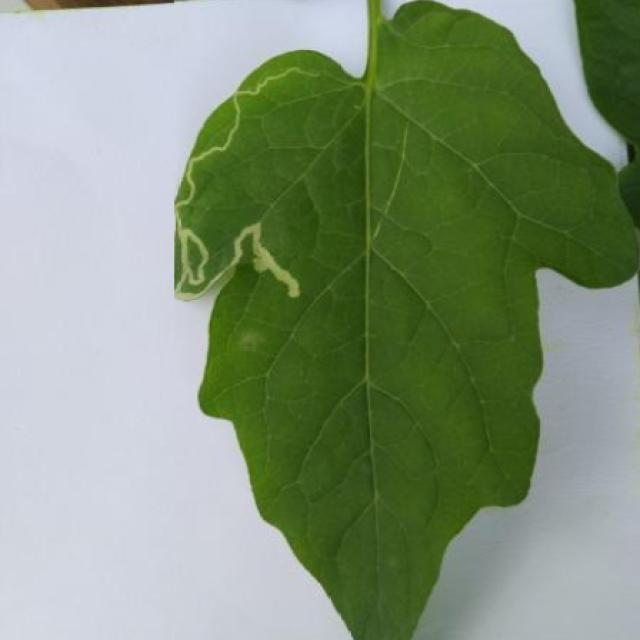Leaf Miner: (174, 0, 640, 640)
